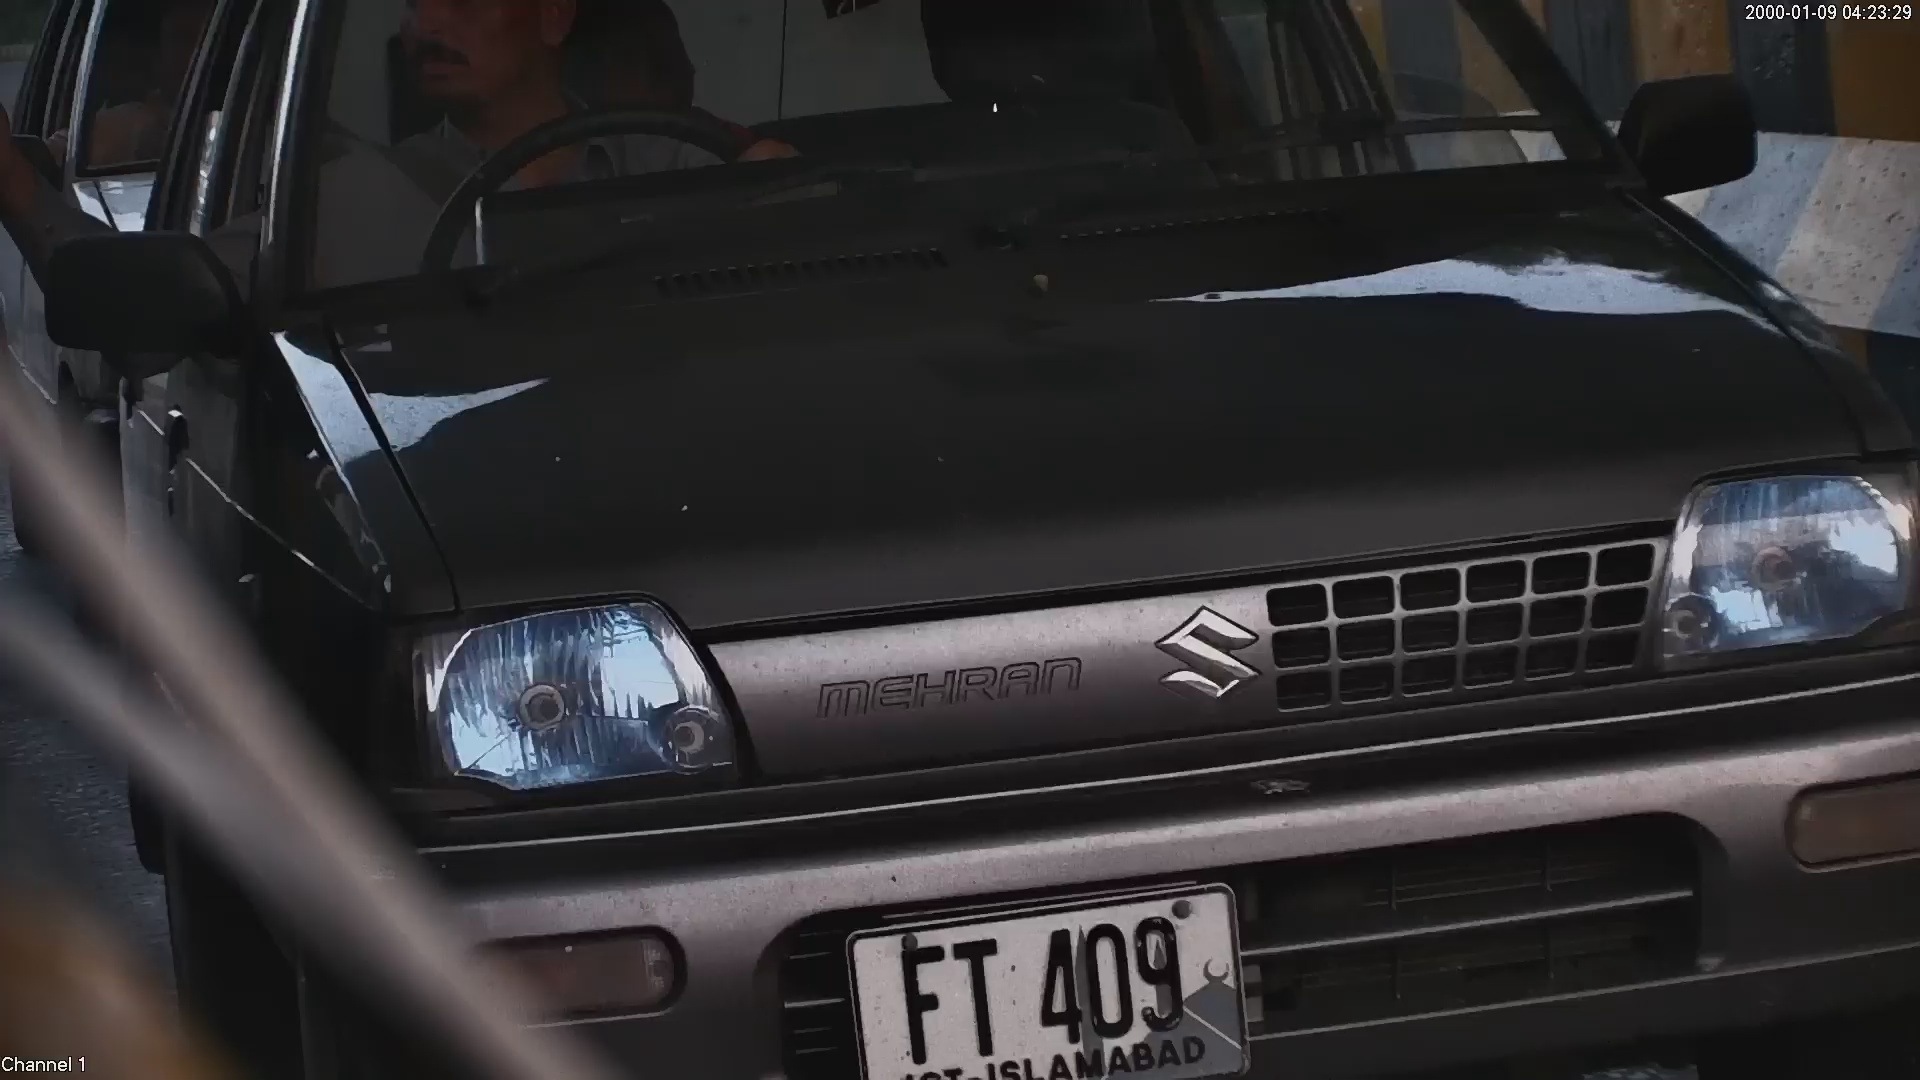Number_Plate: (843, 892, 1252, 1080)
Undefined: (430, 618, 697, 777), (1702, 464, 1919, 657), (808, 651, 1091, 720), (491, 942, 671, 1023), (1784, 766, 1920, 868), (1156, 588, 1267, 705)
